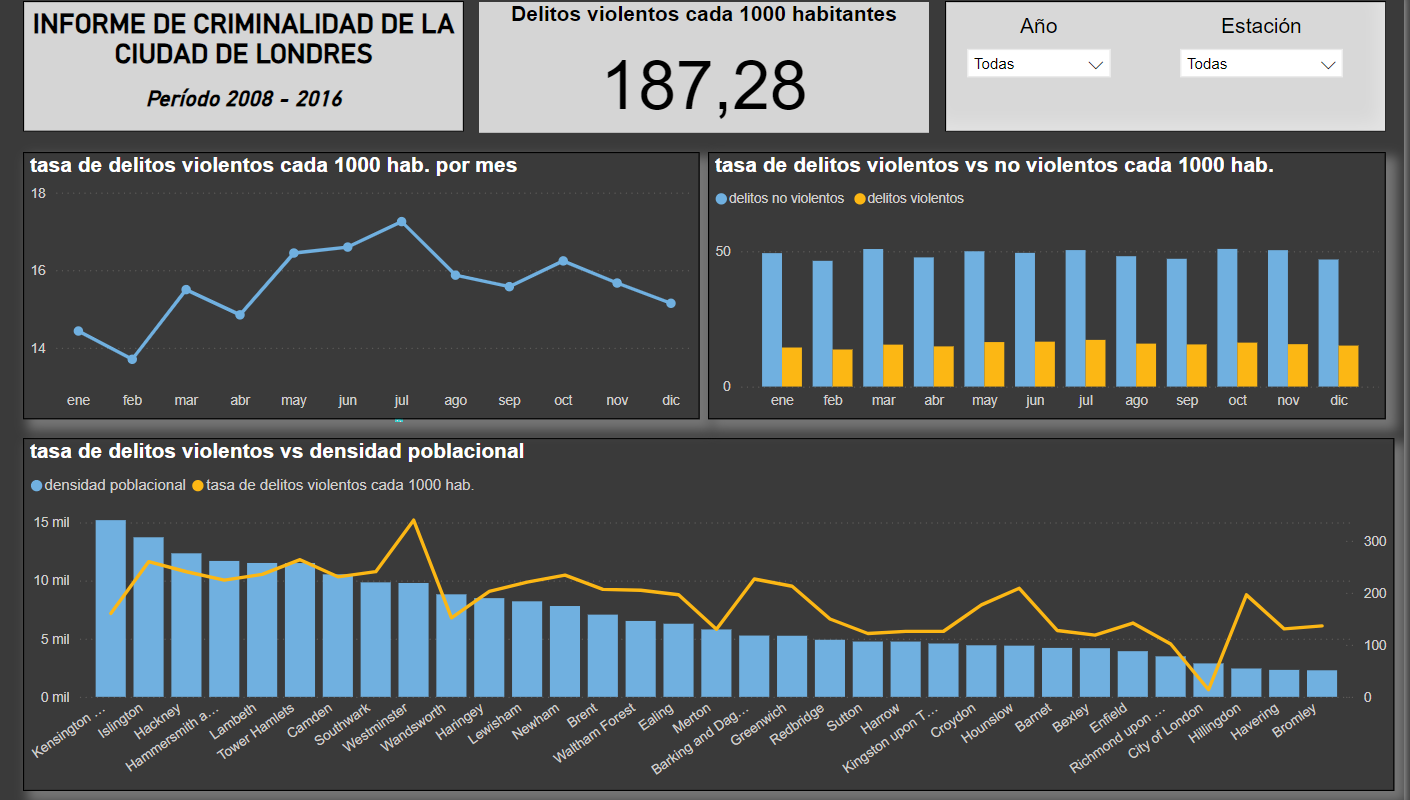

Layout of this report page (visuals, bound fields, positions):
{"tool":"powerbi","page":{"name":"Delitos Violentos","canvas":[1280,720],"ordinal":3},"visuals":[{"type":"textbox","box":[55.7,6.4,391.3,116.1],"z":0,"group":"g2"},{"type":"shape","box":[873.2,6.4,391.3,116.1],"z":0,"group":"g1"},{"type":"card","title":"Delitos violentos cada 1000 habitantes","fields":{"Values":["metricas.001 #tasa de delitos violentos"]},"box":[460.6,6.8,399,116.1],"z":0},{"type":"actionButton","box":[55.7,6.4,391.3,116.1],"z":1000,"group":"g2"},{"type":"group","id":"g1","title":"Grupo 1","box":[873.2,6.4,391.3,116.1],"z":1000},{"type":"lineStackedColumnComboChart","title":"tasa de delitos violentos vs densidad poblacional","fields":{"Category":["dim_distrito.distrito"],"Y":["metricas.008 #densidad poblacional"],"Y2":["metricas.001 #tasa de delitos violentos"]},"box":[55.7,392.9,1208.9,313.4],"z":2000},{"type":"slicer","title":"Estación","fields":{"Values":["dim_clima.estacion"]},"box":[1072.4,17.8,163.9,87.4],"z":3000},{"type":"slicer","title":"Año","fields":{"Values":["dim_calendario.#Año"]},"box":[882.6,17.5,146.5,87.5],"z":4000,"group":"g1"},{"type":"lineChart","title":"tasa de delitos violentos cada 1000 hab. por mes","fields":{"Y":["metricas.001 #tasa de delitos violentos"],"Category":["dim_calendario.MesCorto"]},"box":[55.7,140,599.7,237],"z":4000},{"type":"clusteredColumnChart","title":"tasa de delitos violentos vs no violentos cada 1000 hab.","fields":{"Category":["dim_calendario.MesCorto"],"Y":["metricas.005 #tasa de delitos no violentos","metricas.001 #tasa de delitos violentos"]},"box":[663.3,140,601.3,237],"z":5000},{"type":"group","id":"g2","title":"Grupo 1","box":[55.7,6.4,391.3,116.1],"z":6000}]}

Visuals, with their boxes in screenshot pixels (x1, y1, x2, y2), scaled from the page's 1280x720 canvas onto the 1410x800 screenshot:
textbox: Rect(61, 7, 492, 136)
shape: Rect(962, 7, 1393, 136)
"Delitos violentos cada 1000 habitantes" card: Rect(507, 8, 947, 137)
actionButton: Rect(61, 7, 492, 136)
"Grupo 1" group: Rect(962, 7, 1393, 136)
"tasa de delitos violentos vs densidad poblacional" lineStackedColumnComboChart: Rect(61, 437, 1393, 785)
"Estación" slicer: Rect(1181, 20, 1362, 117)
"Año" slicer: Rect(972, 19, 1134, 117)
"tasa de delitos violentos cada 1000 hab. por mes" lineChart: Rect(61, 156, 722, 419)
"tasa de delitos violentos vs no violentos cada 1000 hab." clusteredColumnChart: Rect(731, 156, 1393, 419)
"Grupo 1" group: Rect(61, 7, 492, 136)
